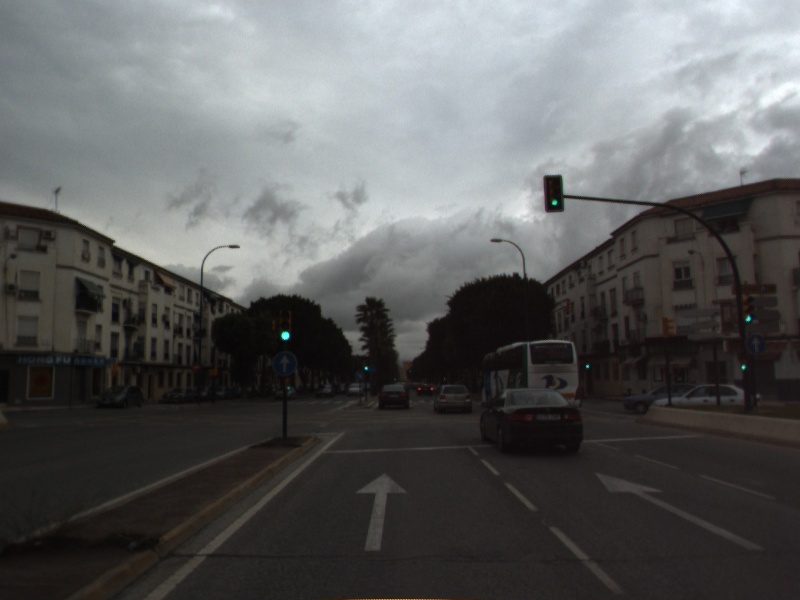STRAIGHT: (592, 469, 767, 553), (352, 469, 410, 554)
